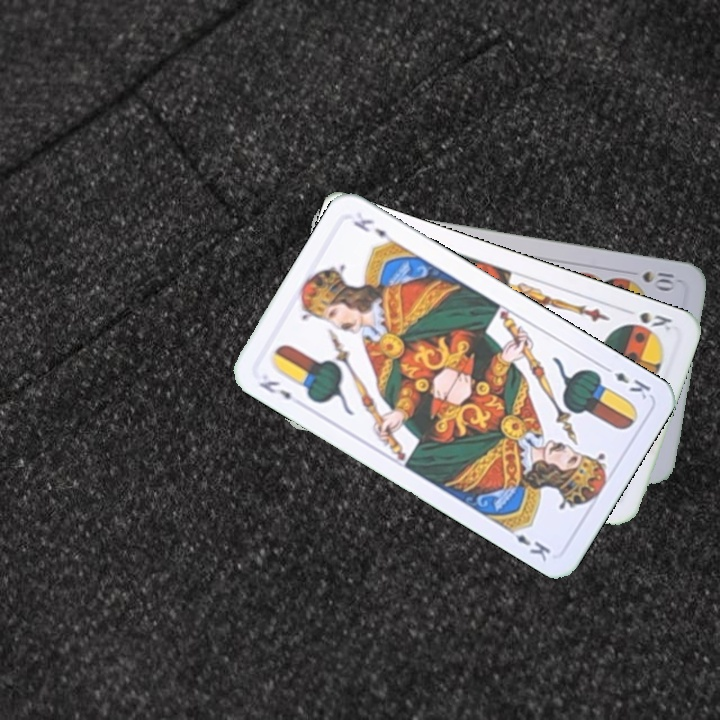EK: (598, 361, 653, 402), (255, 376, 294, 403)
S10: (638, 267, 677, 292)
SK: (622, 307, 675, 337)
